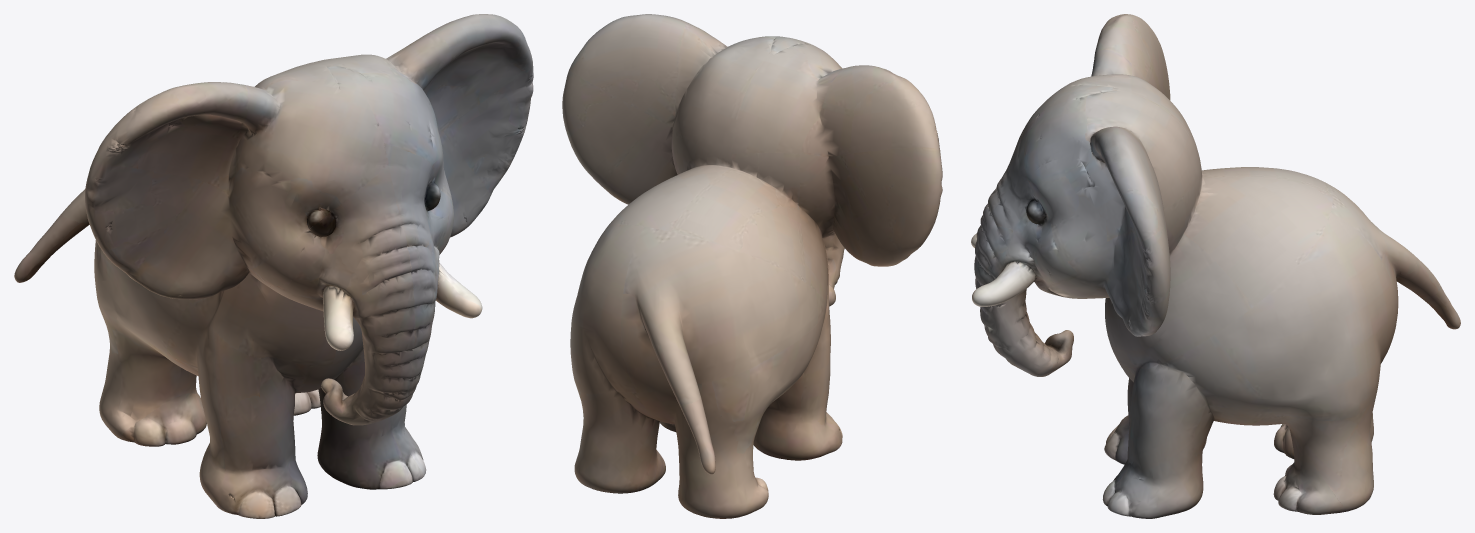
File: elephant.glb
3 renders of one model, left to right at view 1: azimuth 30°, elevation 25°; view 2: azimuth 150°, elevation 25°; view 3: azimuth 270°, elevation 25°, orthographic. The views are drawn at different scales.
Parts seen in each view (by area): view 1: tripo_node_611b4b0c-9e75-486c-a830-1a2e0908d314; view 2: tripo_node_611b4b0c-9e75-486c-a830-1a2e0908d314; view 3: tripo_node_611b4b0c-9e75-486c-a830-1a2e0908d314.
Part boxes in pixels (x1,y1,x2,y2): tripo_node_611b4b0c-9e75-486c-a830-1a2e0908d314: [14, 14, 533, 518]; tripo_node_611b4b0c-9e75-486c-a830-1a2e0908d314: [562, 14, 942, 518]; tripo_node_611b4b0c-9e75-486c-a830-1a2e0908d314: [971, 14, 1460, 518].
Bounding box in the file's own units: 0.9123 × 0.8764 × 0.9808.
1 material, 1 textured.
